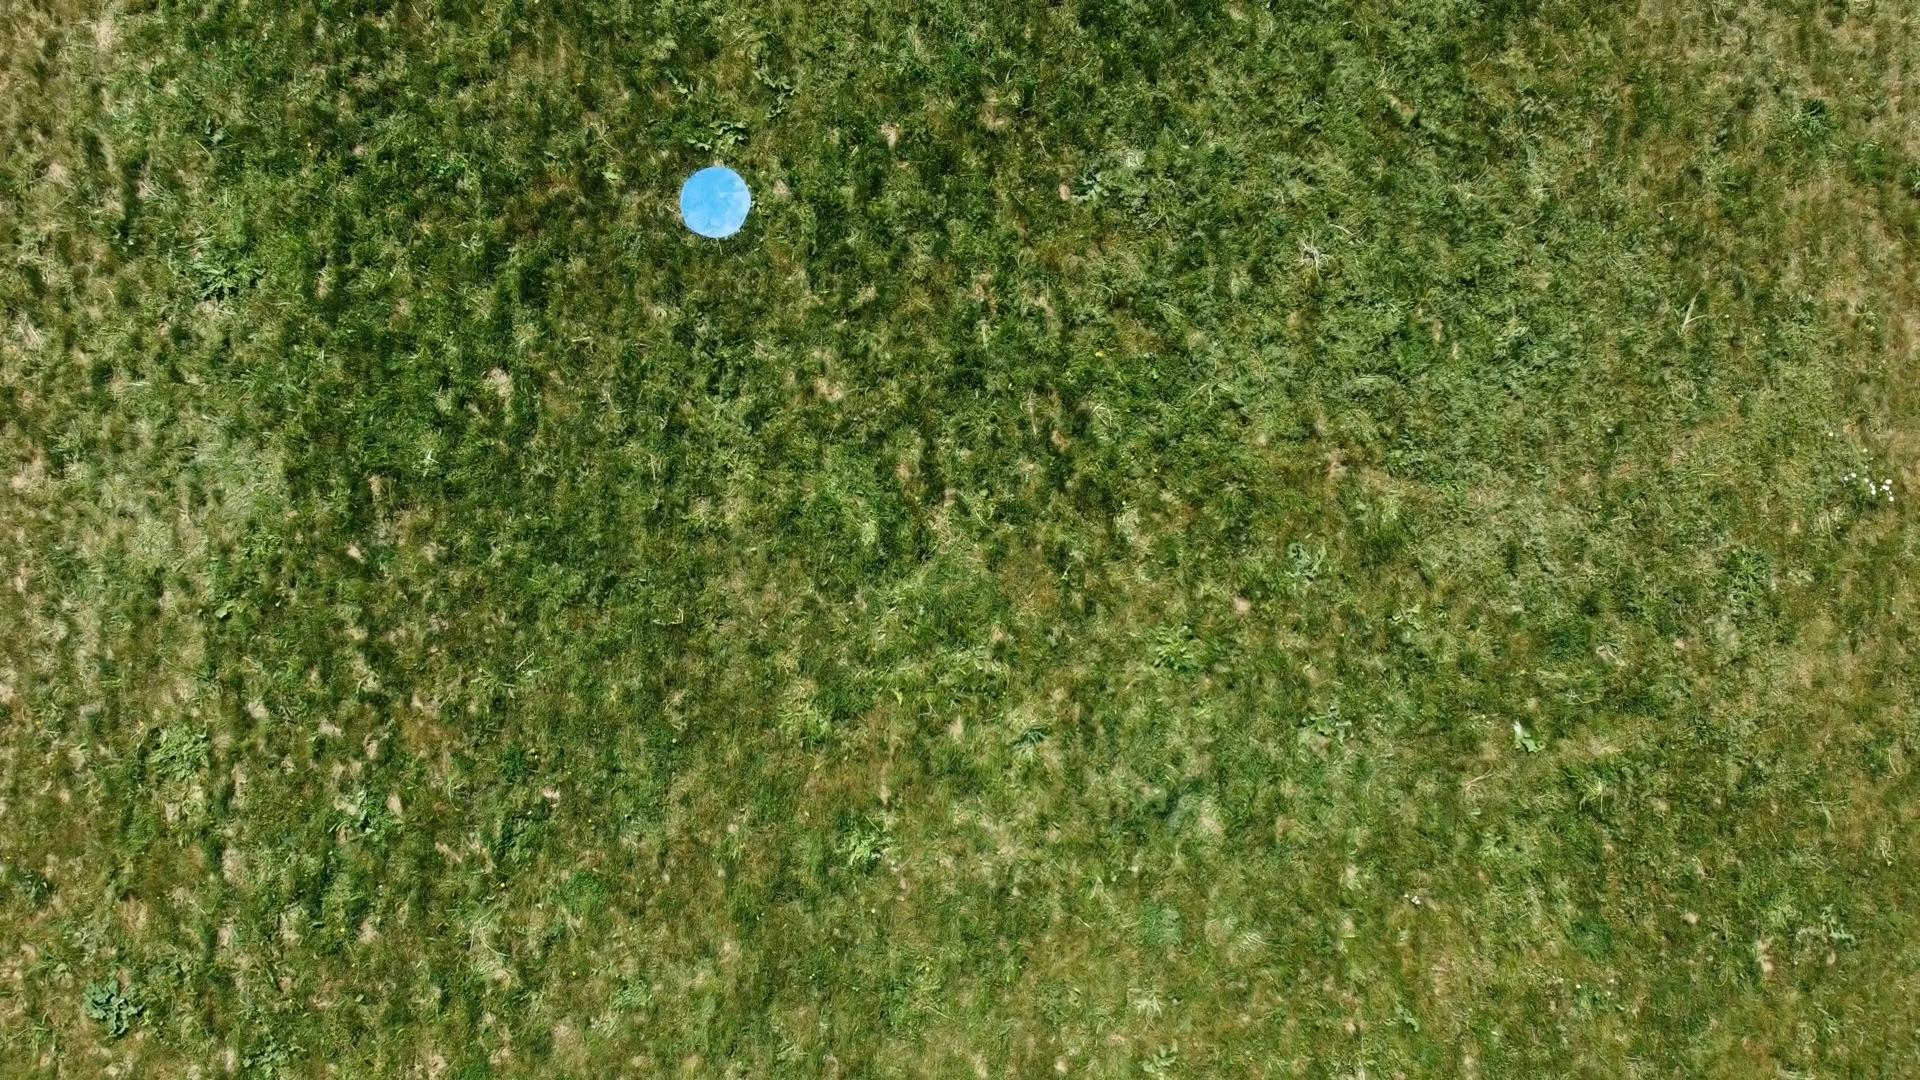Blue: (678, 164, 754, 241)
